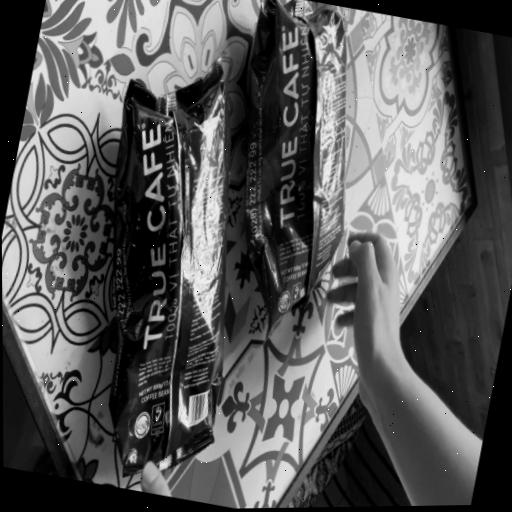cafe_hat: (107, 58, 230, 472)
cafe_xay: (244, 0, 346, 332)
